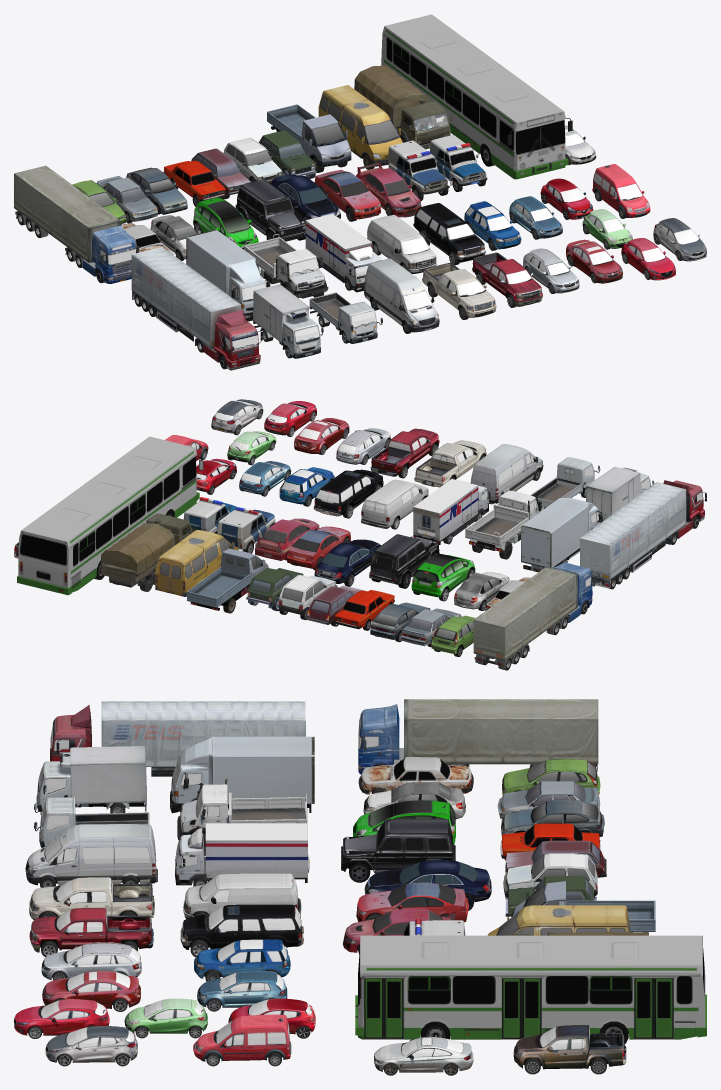
Rendered from Indian Car Simulator Traffic Car Pack.glb.
3 renders of one model, top to bottom at view 1: azimuth 30°, elevation 25°; view 2: azimuth 150°, elevation 25°; view 3: azimuth 270°, elevation 25°, orthographic. The views are drawn at different scales.
Bounding box in the file's own units: 30.68 × 3.83 × 28.3.
55 materials, 53 textured.
